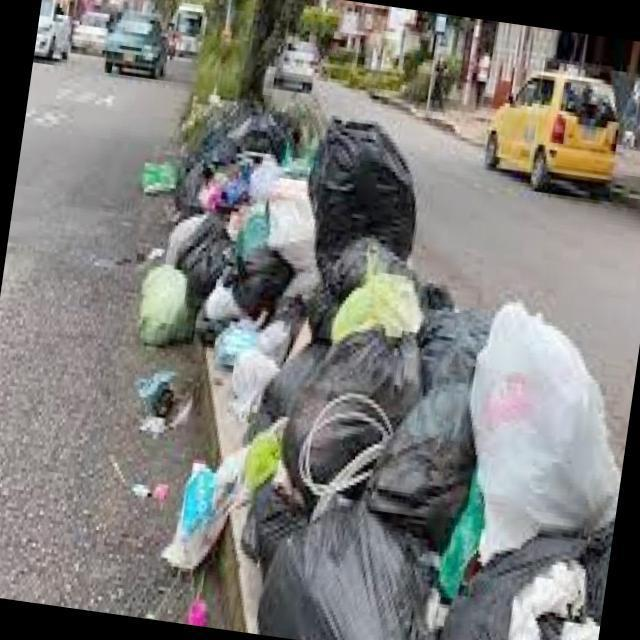garbage: (91, 238, 640, 640), (131, 67, 439, 276)
